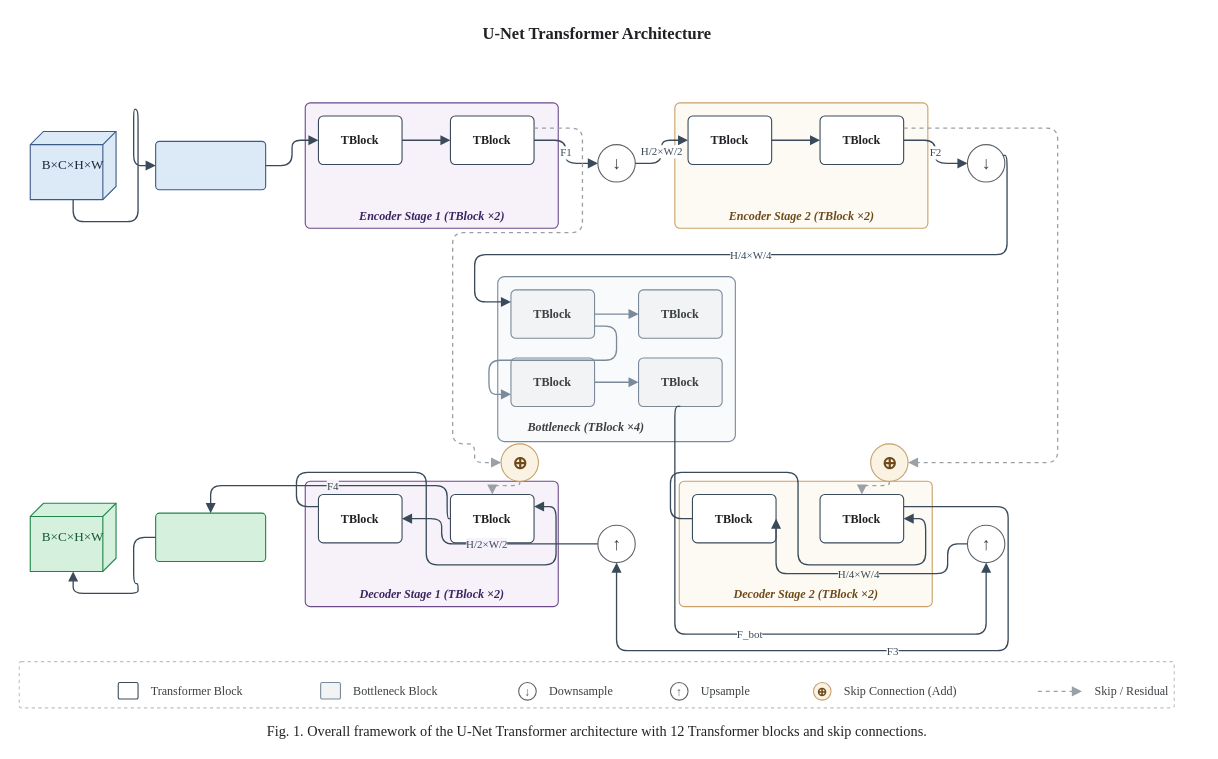
Some shapes in this 1218 by 759 pixel diagram are drawn without their labels. The centre of each missing label's shape, as x and y in pixels:
Output Projection: [210,537]
Patch Embedding: [210,165]
